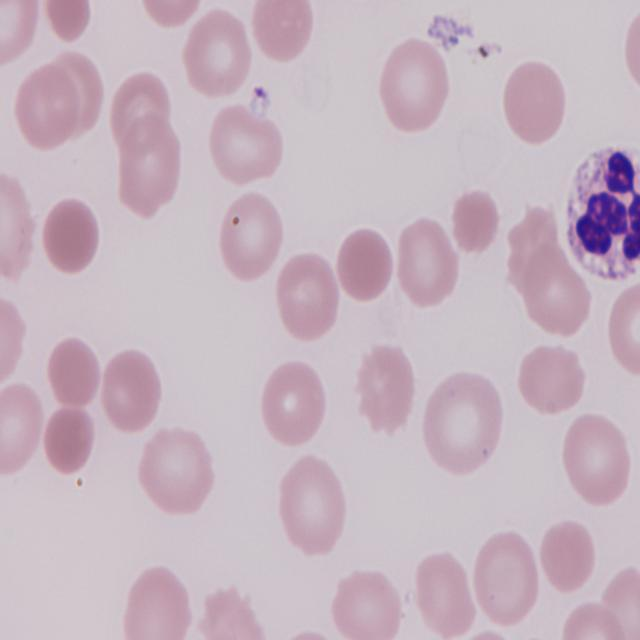RBC: (420, 370, 502, 478), (274, 450, 348, 558), (376, 35, 452, 134), (112, 112, 184, 215), (563, 408, 636, 508), (471, 528, 543, 628), (140, 426, 218, 518), (180, 6, 252, 105), (207, 102, 286, 190), (218, 186, 288, 284), (520, 246, 590, 344), (273, 251, 340, 348), (349, 340, 418, 434), (258, 357, 328, 449), (395, 214, 464, 307), (98, 344, 166, 431), (414, 548, 478, 638), (121, 564, 196, 640), (331, 568, 406, 640), (516, 340, 588, 414), (250, 0, 314, 65), (0, 168, 37, 280), (1, 384, 46, 474), (607, 278, 640, 380), (0, 288, 29, 391), (557, 600, 631, 640), (0, 1, 40, 68)
Spherocyte: (499, 58, 568, 150), (334, 225, 396, 305), (539, 514, 600, 594), (39, 199, 99, 275), (40, 403, 96, 476), (46, 337, 102, 410), (450, 186, 502, 258)
WBC: (563, 164, 638, 282)
